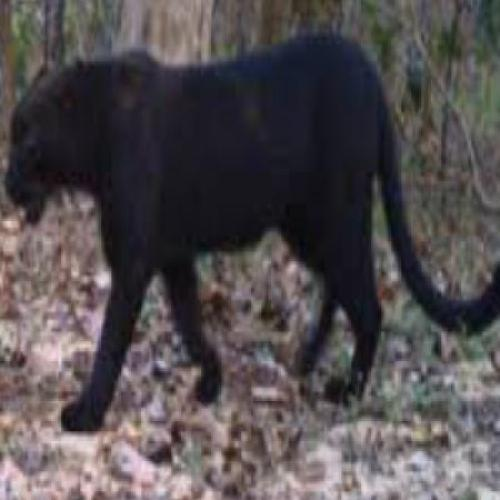panther-endangered: (11, 58, 442, 395)
